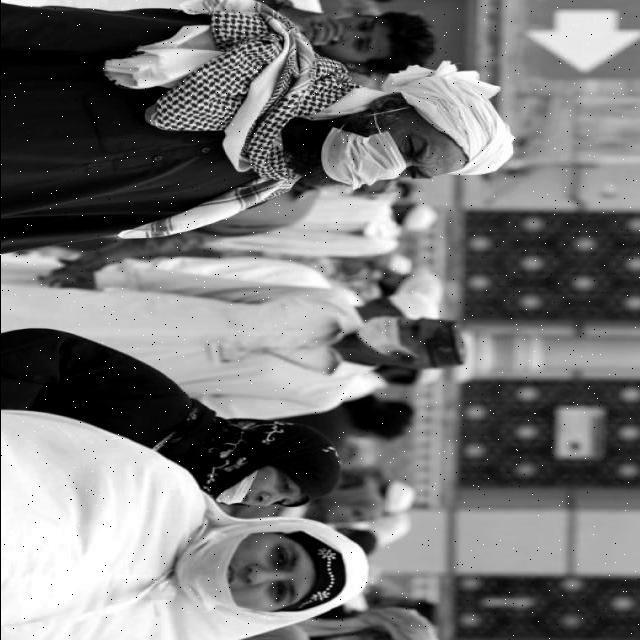mask: (332, 132, 408, 182), (363, 310, 405, 362)
no_gloves: (442, 75, 496, 174), (299, 434, 339, 509), (325, 526, 357, 600), (379, 19, 425, 68), (432, 318, 468, 369)
no_hairnet: (198, 518, 262, 604), (242, 478, 290, 506)
